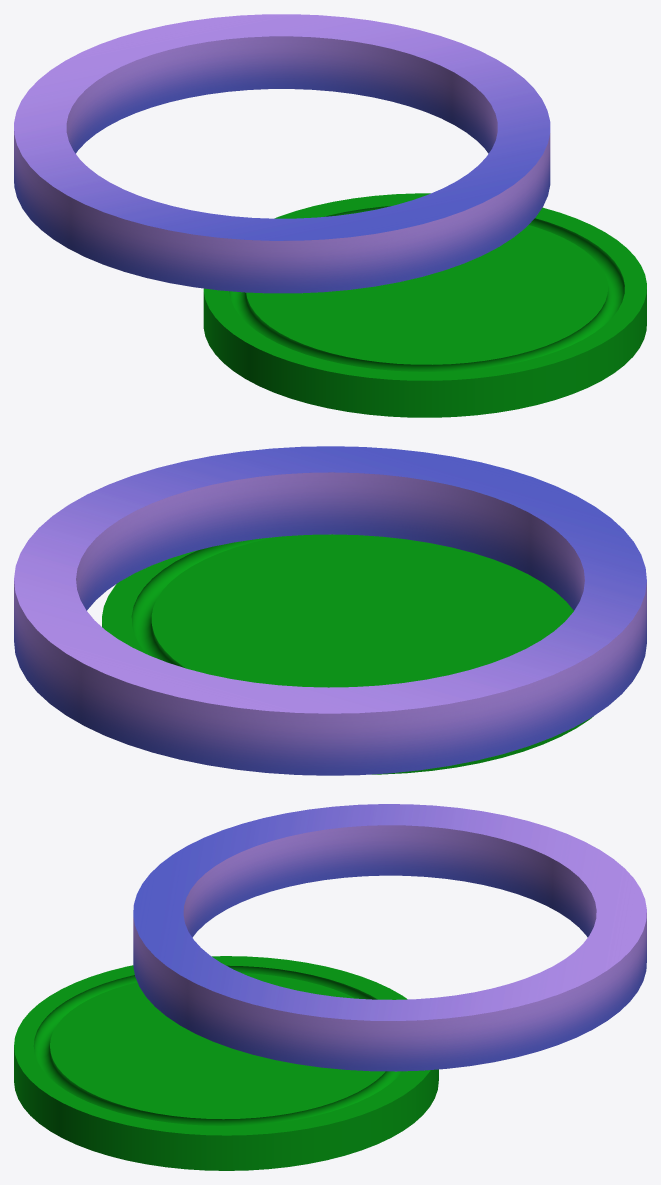
File: Main Island.obj
3 views of the same model, one above another, from view 1: azimuth 30°, elevation 25°; view 2: azimuth 150°, elevation 25°; view 3: azimuth 270°, elevation 25° (orthographic). The views are drawn at different scales.
Parts seen in each view (by area): view 1: 001_Water, 000_Main_level_grass; view 2: 001_Water, 000_Main_level_grass; view 3: 001_Water, 000_Main_level_grass.
Part boxes in pixels (box(x1,y1,x2,y2)): 001_Water: box(14, 14, 550, 293); 000_Main_level_grass: box(203, 193, 646, 417); 001_Water: box(14, 446, 646, 775); 000_Main_level_grass: box(102, 534, 593, 774); 001_Water: box(133, 804, 646, 1071); 000_Main_level_grass: box(14, 956, 438, 1170).
Bounding box in the file's own units: 1236 × 363 × 1468.
